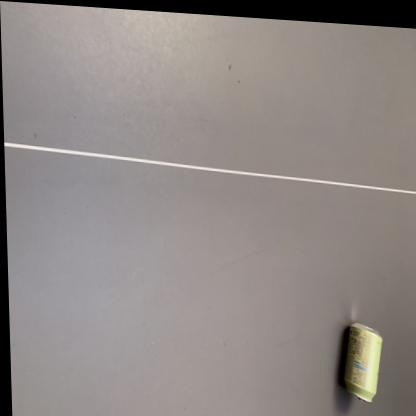trash: (338, 322, 382, 401)
